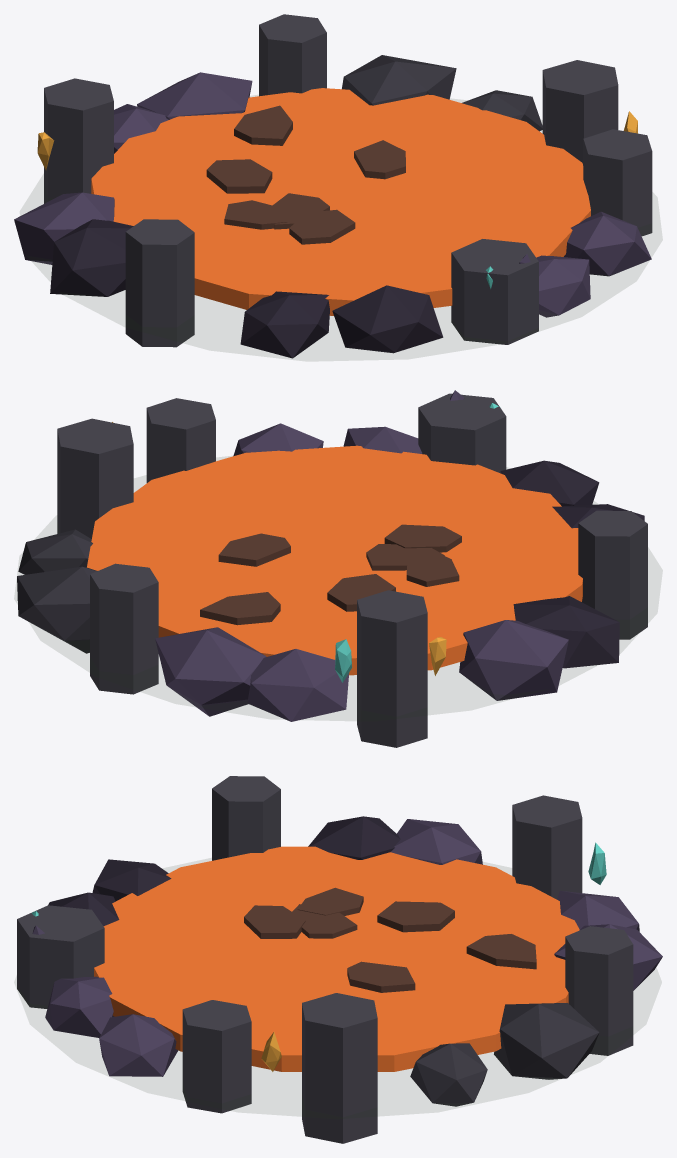
The model's file is lava_glass.glb.
3 renders of one model, top to bottom at view 1: azimuth 30°, elevation 25°; view 2: azimuth 150°, elevation 25°; view 3: azimuth 270°, elevation 25°, orthographic.
Visible parts, largest first — view 1: lava_glass; view 2: lava_glass; view 3: lava_glass.
Part boxes in pixels (x1,y1,x2,y2): lava_glass: (14,14,652,358); lava_glass: (17,390,647,747); lava_glass: (17,776,662,1143).
Bounding box in the file's own units: 2.12 × 0.4448 × 2.1.
